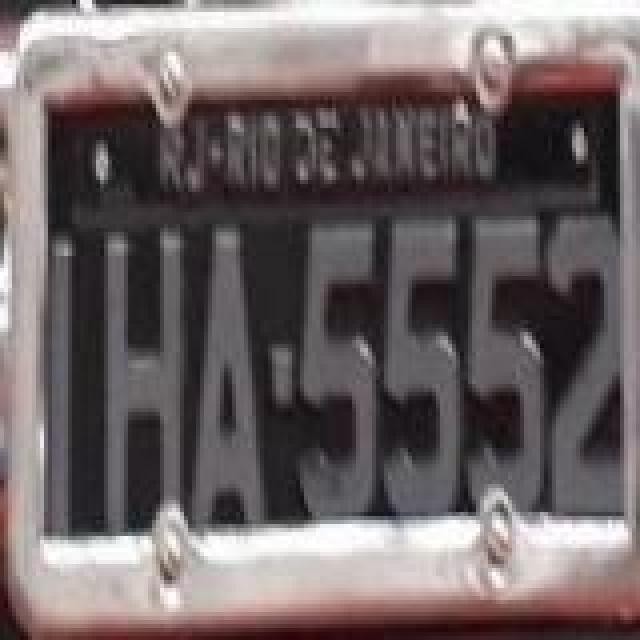1: (46, 236, 74, 540)
2: (544, 216, 624, 520)
5: (294, 216, 378, 528), (462, 212, 546, 524), (382, 214, 466, 522)
A: (188, 226, 268, 542)
H: (102, 228, 186, 540)
